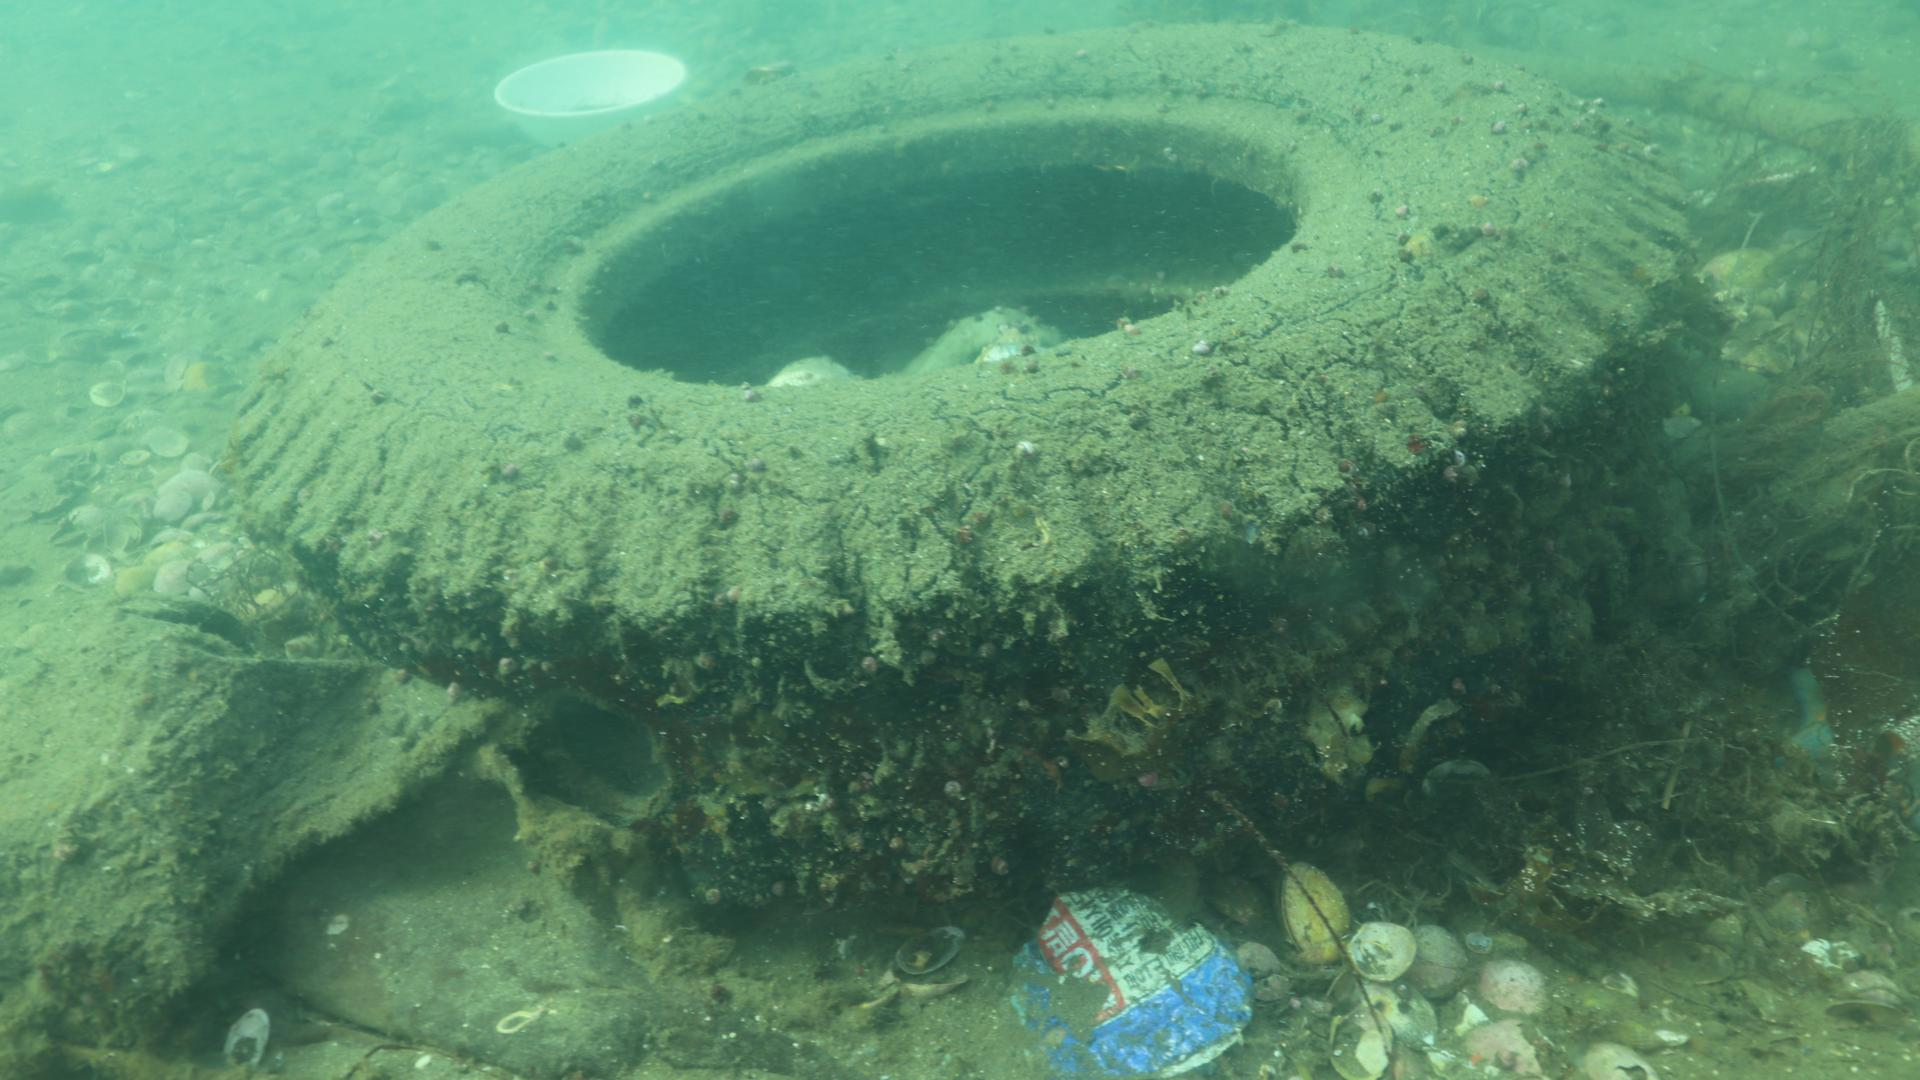tire: (233, 21, 1695, 920)
